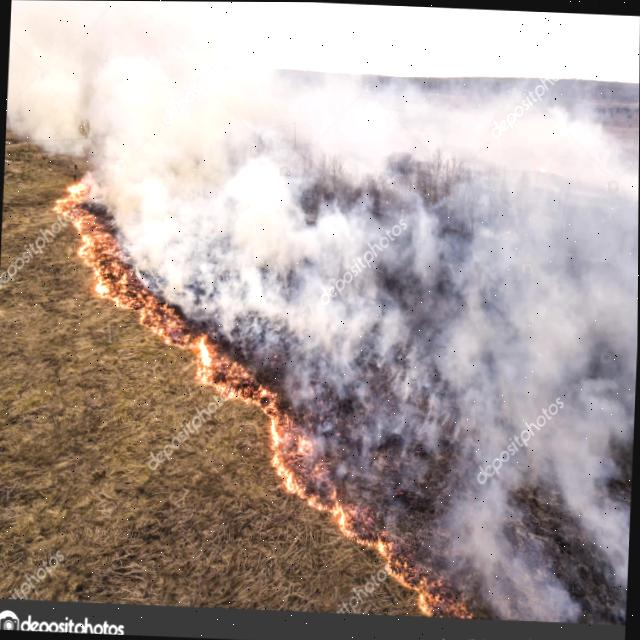fire: (47, 173, 496, 627)
smoke: (6, 0, 639, 624)
